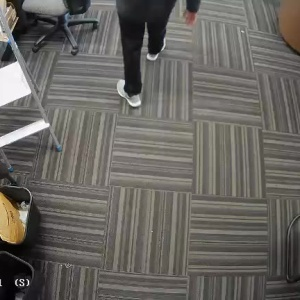person: (112, 0, 193, 107)
